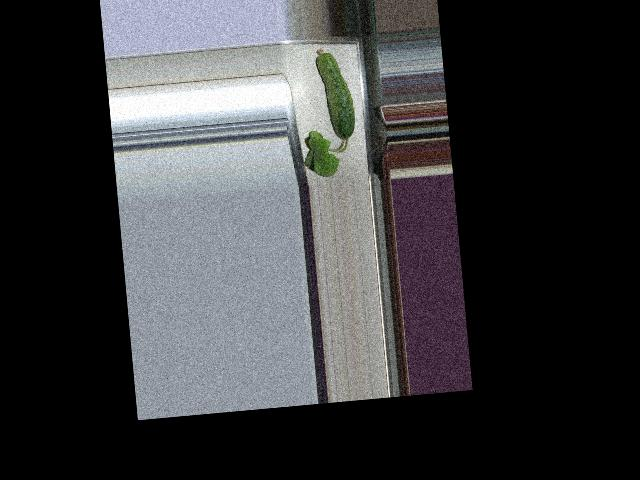cucumber: (315, 46, 356, 142)
